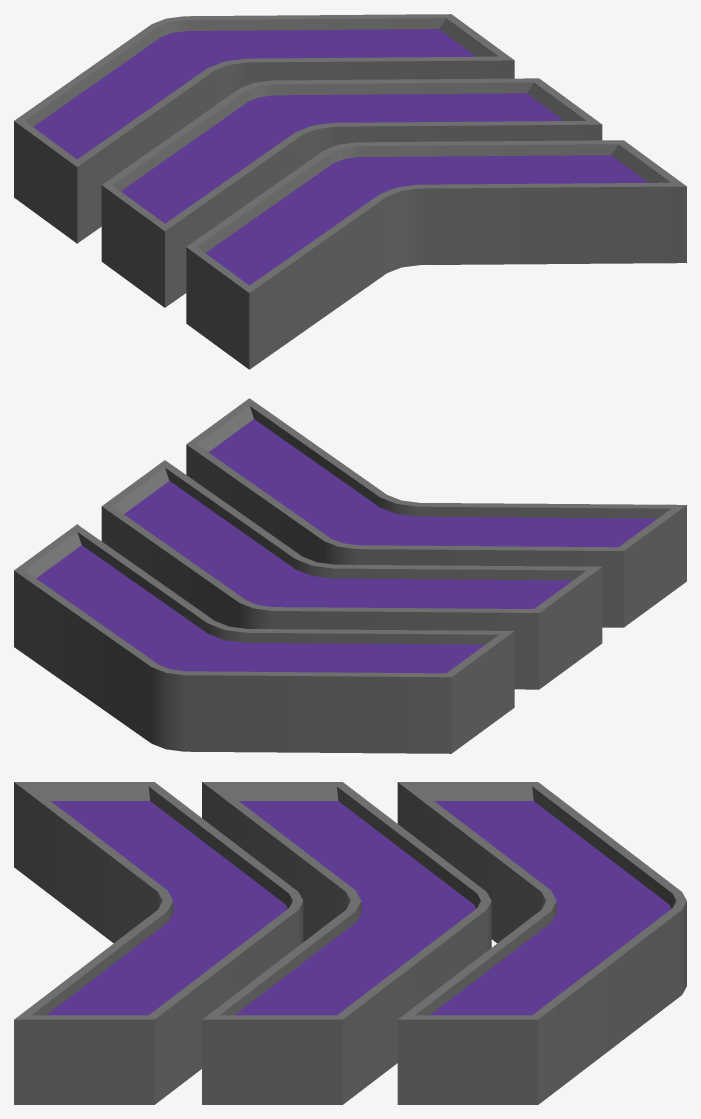
The model's file is Arrow.fbx.
3 views of the same model, one above another, from view 1: azimuth 30°, elevation 25°; view 2: azimuth 150°, elevation 25°; view 3: azimuth 270°, elevation 25° (orthographic). The views are drawn at different scales.
Visible parts, largest first — view 1: Arrow; view 2: Arrow; view 3: Arrow.
Part boxes in pixels (x1=…): Arrow: x1=14, y1=14, x2=686, y2=369; Arrow: x1=14, y1=398, x2=686, y2=753; Arrow: x1=14, y1=782, x2=686, y2=1104.
Size of the model in its own units: 92.96 by 15.55 by 111.
